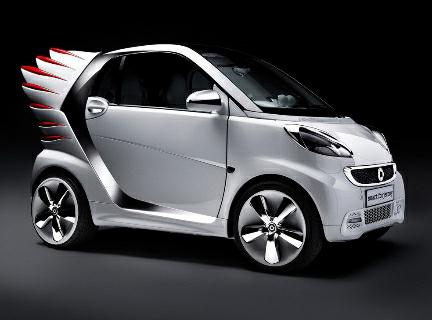smart-forjeremy: (16, 40, 417, 280)
